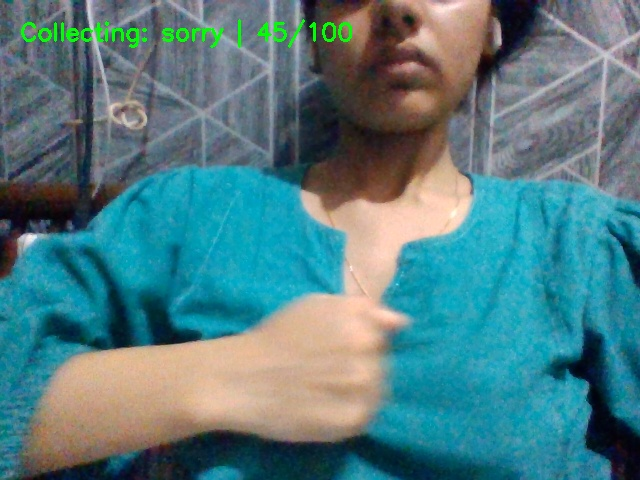sorry: (209, 266, 419, 452)
